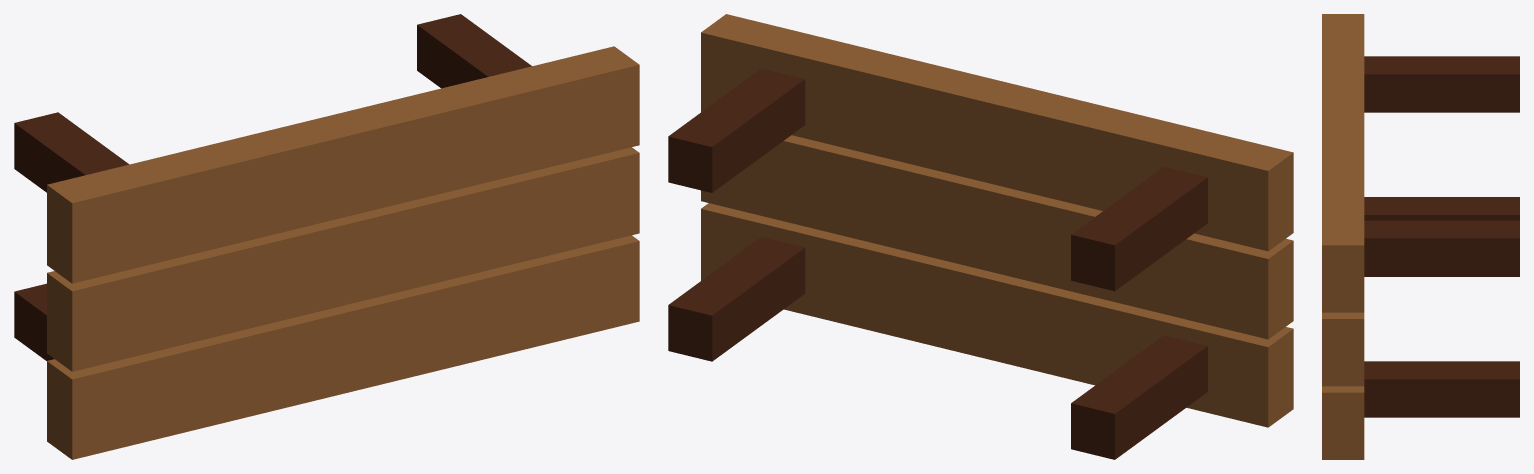
The model's file is SM_RuralBench.obj.
3 renders of one model, left to right at view 1: azimuth 30°, elevation 25°; view 2: azimuth 150°, elevation 25°; view 3: azimuth 270°, elevation 25°, orthographic. The views are drawn at different scales.
Parts seen in each view (by area): view 1: SM_RuralBench; view 2: SM_RuralBench; view 3: SM_RuralBench.
Part boxes in pixels (x1,y1,x2,y2): SM_RuralBench: (14, 14, 639, 459); SM_RuralBench: (668, 14, 1293, 459); SM_RuralBench: (1322, 14, 1519, 459).
Bounding box in the file's own units: 155 × 67 × 56.
